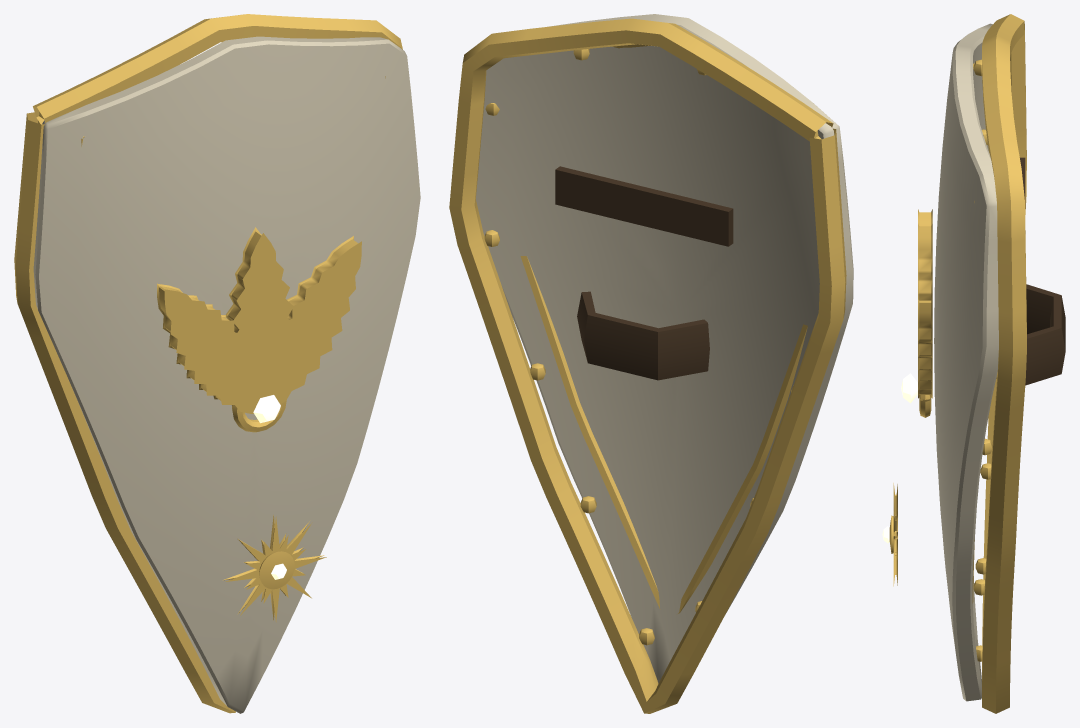
File: asc_cantor_of_dawn_shield.glb
3 views of the same model, side by side, from view 1: azimuth 30°, elevation 25°; view 2: azimuth 150°, elevation 25°; view 3: azimuth 270°, elevation 25° (orthographic). The views are drawn at different scales.
Visible parts, largest first — view 1: asc_cantor_of_dawn_shield; view 2: asc_cantor_of_dawn_shield; view 3: asc_cantor_of_dawn_shield.
Boxes of the visible parts, x1,y1,x2,y2 form: asc_cantor_of_dawn_shield: [14, 14, 420, 713]; asc_cantor_of_dawn_shield: [449, 14, 853, 713]; asc_cantor_of_dawn_shield: [882, 14, 1065, 713].
Bounding box in the file's own units: 0.5917 × 0.997 × 0.2491.
